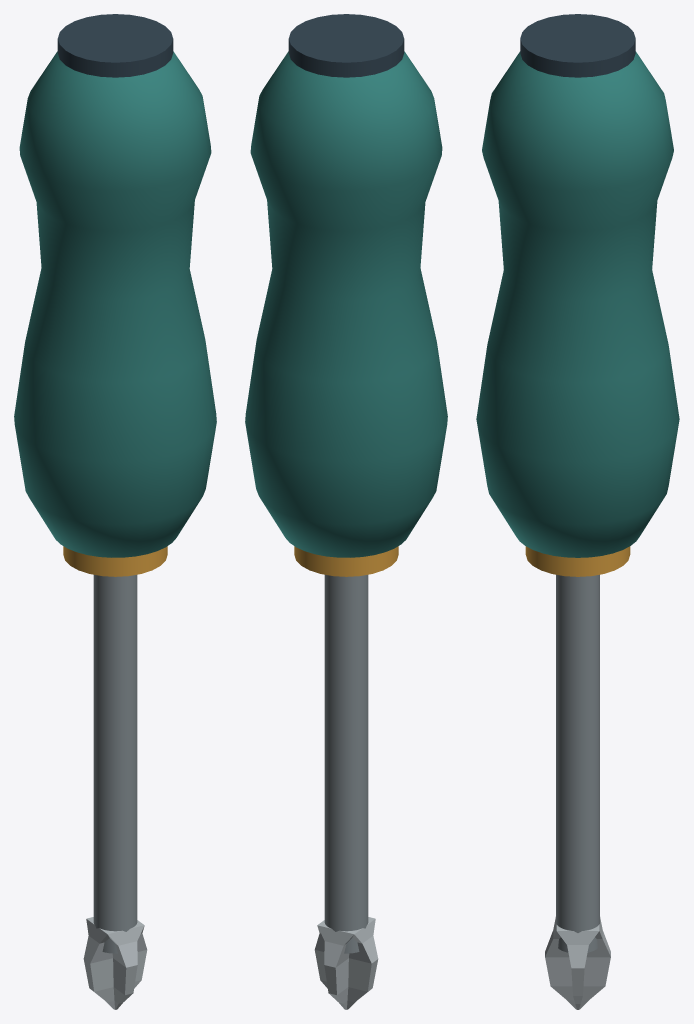
The model's file is workshop-screwdriver.glb.
3 renders of one model, left to right at view 1: azimuth 30°, elevation 25°; view 2: azimuth 150°, elevation 25°; view 3: azimuth 270°, elevation 25°, orthographic.
Visible parts, largest first — view 1: Teal Handle, Steel Shaft, Flush End Cap, Crossed Flat Blades, Brass Ferrule; view 2: Teal Handle, Steel Shaft, Flush End Cap, Crossed Flat Blades, Brass Ferrule; view 3: Teal Handle, Steel Shaft, Flush End Cap, Crossed Flat Blades, Brass Ferrule.
Boxes of the visible parts, x1=… form: Teal Handle: x1=14, y1=51, x2=216, y2=557; Steel Shaft: x1=93, y1=575, x2=137, y2=953; Flush End Cap: x1=57, y1=14, x2=173, y2=77; Crossed Flat Blades: x1=83, y1=917, x2=147, y2=1009; Brass Ferrule: x1=63, y1=546, x2=167, y2=576; Teal Handle: x1=245, y1=51, x2=447, y2=557; Steel Shaft: x1=324, y1=575, x2=368, y2=953; Flush End Cap: x1=288, y1=14, x2=404, y2=77; Crossed Flat Blades: x1=314, y1=917, x2=378, y2=1009; Brass Ferrule: x1=294, y1=546, x2=398, y2=576; Teal Handle: x1=476, y1=51, x2=679, y2=557; Steel Shaft: x1=556, y1=574, x2=599, y2=952; Flush End Cap: x1=520, y1=14, x2=635, y2=77; Crossed Flat Blades: x1=545, y1=917, x2=610, y2=1009; Brass Ferrule: x1=525, y1=546, x2=630, y2=576.
Size of the model in its own units: 0.074 by 0.39 by 0.074.
